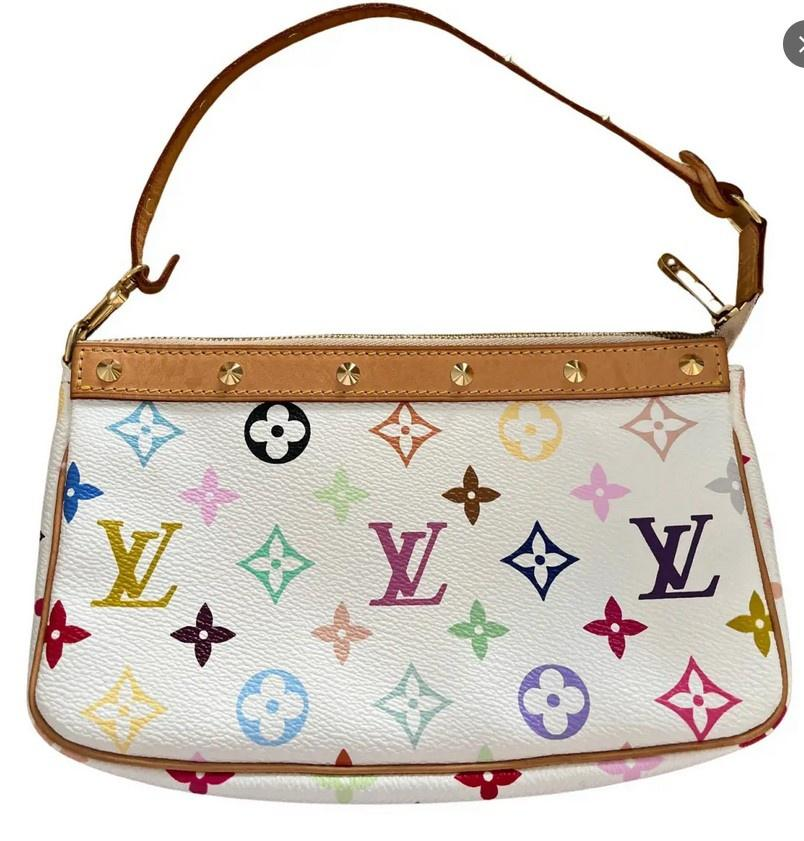LOUIS-VUITTON: (46, 396, 785, 799)
